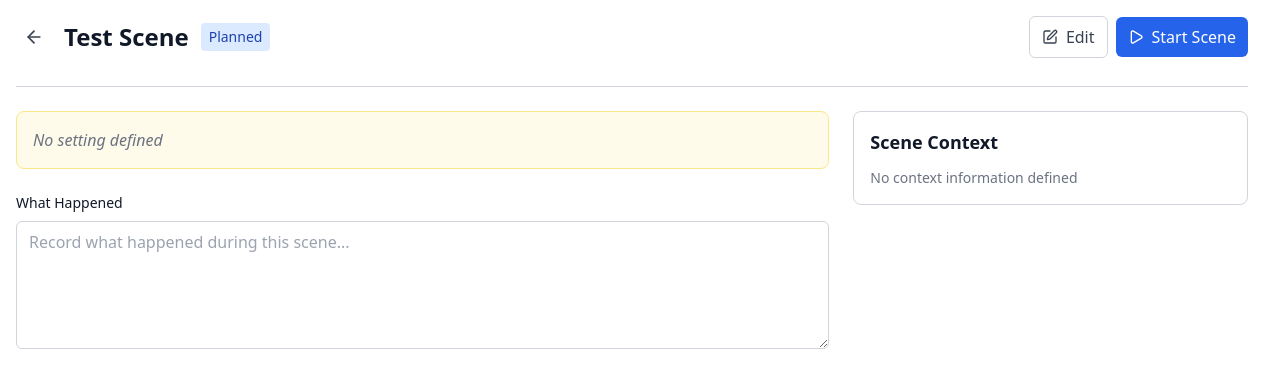
Test case: Scene Runner Page - Start Scene Action › should change status to active after starting scene
Click the button "Start Scene" at (1182, 37), box 1116,17 -> 1248,57
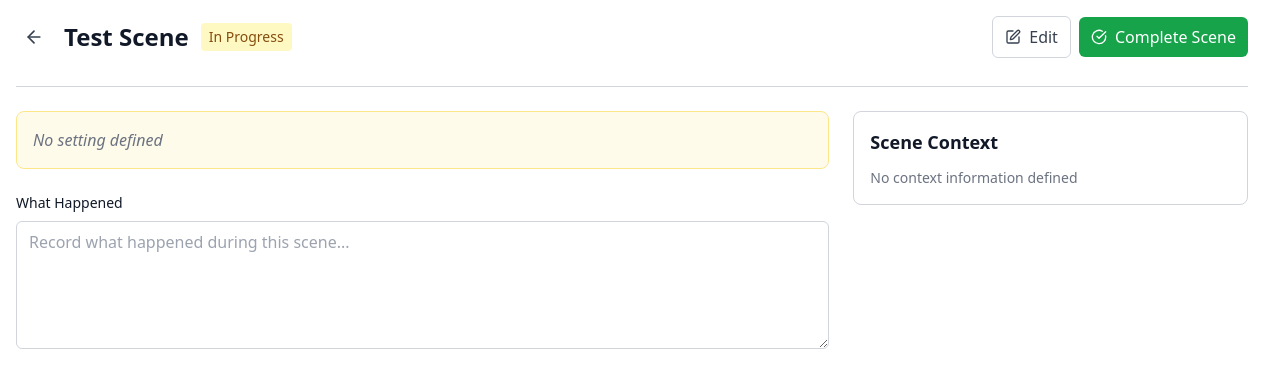
Result: the text "In Progress" is shown at 201,23 -> 292,51
